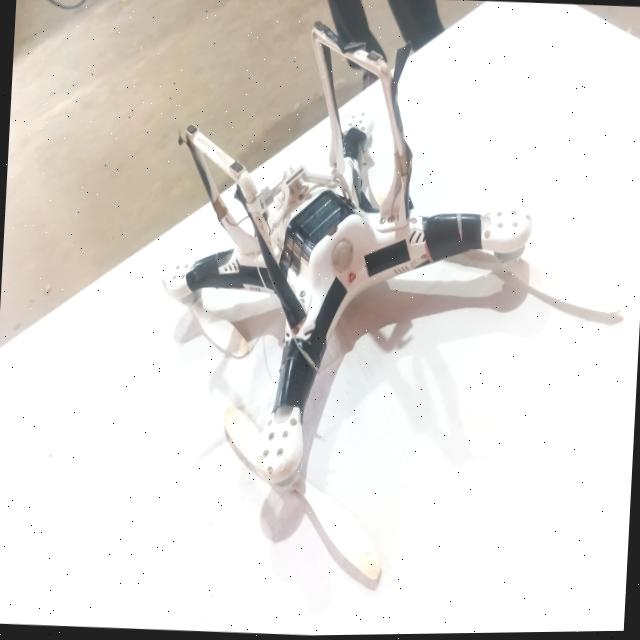drone: (145, 13, 572, 544)
